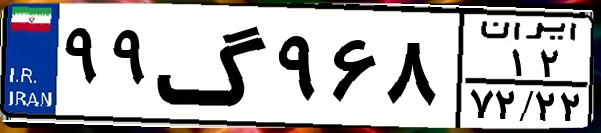1: (508, 27, 537, 80)
2: (560, 70, 590, 125), (537, 27, 568, 80), (495, 70, 520, 125), (535, 70, 560, 125)
6: (330, 28, 385, 110)
7: (470, 70, 495, 125)
8: (385, 28, 445, 110)
9: (270, 28, 330, 110), (57, 26, 110, 100), (110, 28, 156, 98)
گ: (156, 12, 270, 120)
